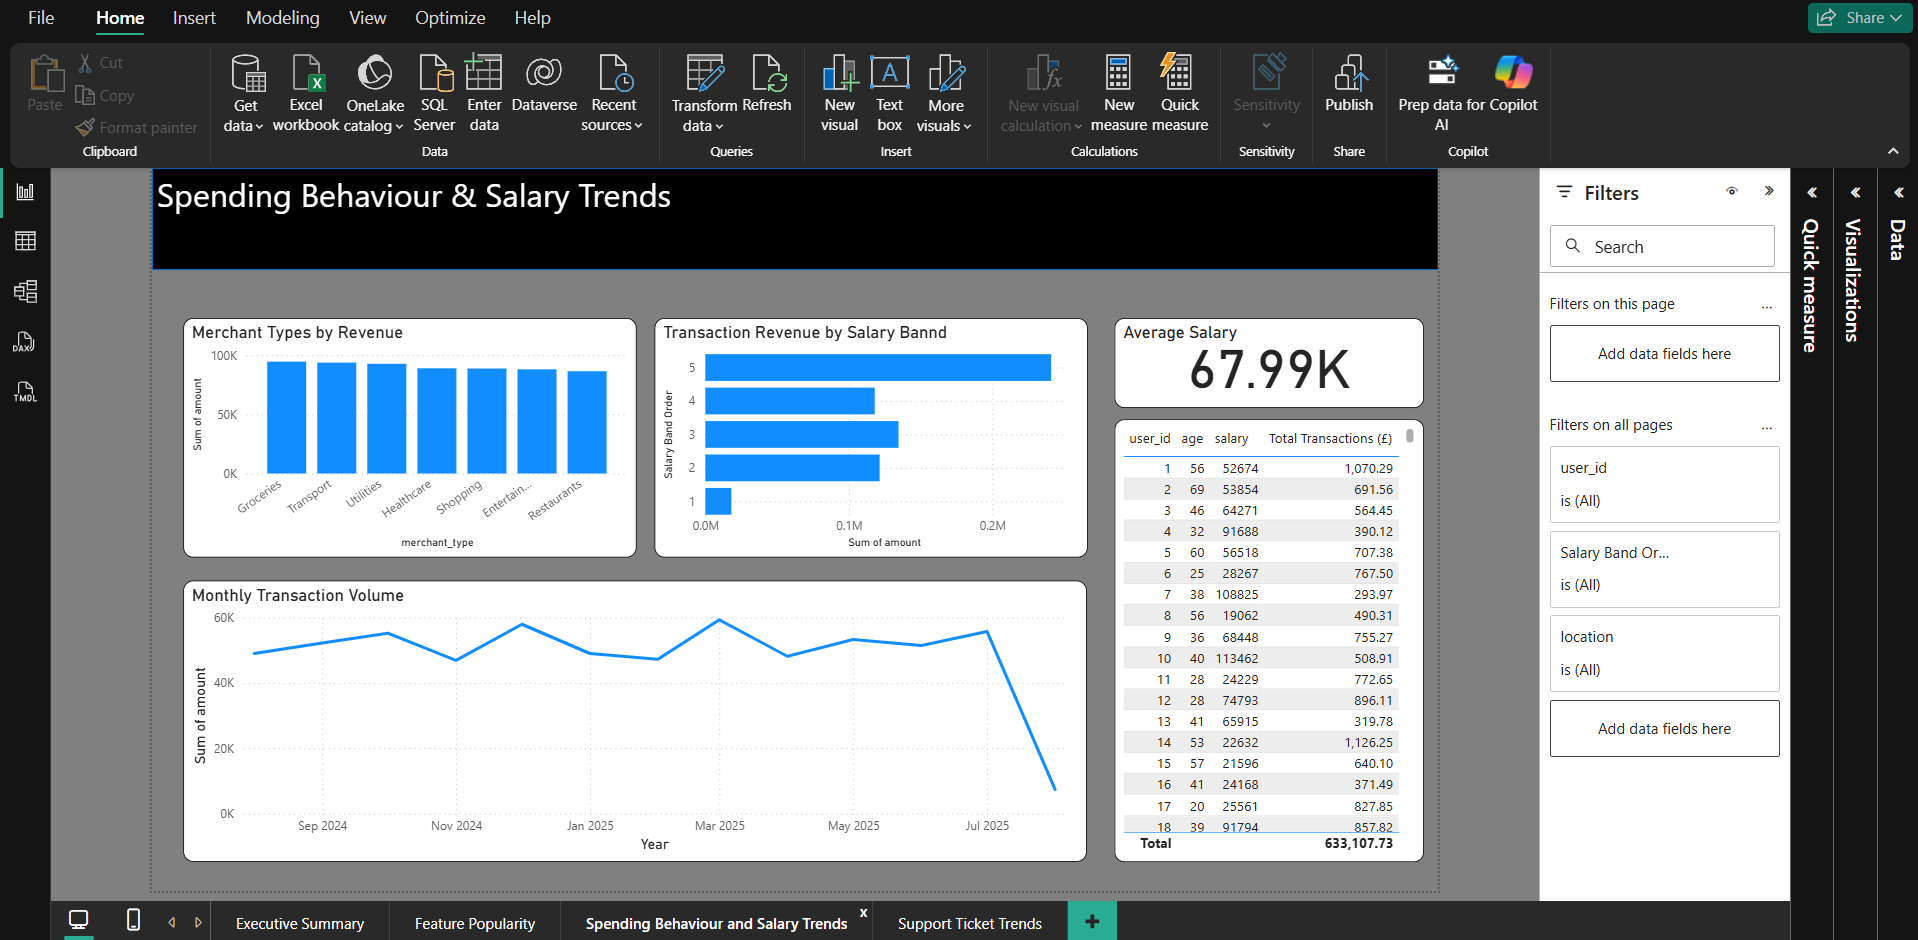

The page's visual inventory and layout, read from the dashboard file:
{"tool":"powerbi","page":{"name":"Spending Behaviour and Salary Trends","canvas":[1280,720],"ordinal":2},"visuals":[{"type":"clusteredColumnChart","title":"Merchant Types by Revenue","fields":{"Y":["Sum(transactions.amount)"],"Category":["transactions.merchant_type"]},"box":[31.6,149.6,451.5,238.8],"z":0},{"type":"lineChart","title":"Monthly Transaction Volume","fields":{"Y":["Sum(transactions.amount)"],"Category":["transactions.transaction_date.Variation.Date Hierarchy.Year","transactions.transaction_date.Variation.Date Hierarchy.Month"]},"box":[31.6,410.3,898.8,279.9],"z":1000},{"type":"clusteredBarChart","title":"Transaction Revenue by Salary Bannd","fields":{"Category":["users.Salary Band Order"],"Y":["Sum(transactions.amount)"]},"box":[499.5,149.6,430.9,238.8],"z":2000},{"type":"tableEx","fields":{"Values":["users.user_id","users.age","users.salary","Sum(transactions.amount)"]},"box":[957.9,249.4,307.9,440.4],"z":3000},{"type":"shape","box":[0,0,1280.3,101.5],"z":4000},{"type":"textbox","box":[0,0,527.4,101.2],"z":5000},{"type":"card","title":"Average Salary","fields":{"Values":["Avg(users.salary)"]},"box":[957.9,149.7,307.9,89.8],"z":6000}]}

Visuals, with their boxes on the page's 1280x720 design canvas (x1, y1, x2, y2). These are canvas units, not pixel positions in the 1918x940 screenshot, which may show the page scaled, cropped or inside an application window:
"Merchant Types by Revenue" clusteredColumnChart: l=32, t=150, r=483, b=388
"Monthly Transaction Volume" lineChart: l=32, t=410, r=930, b=690
"Transaction Revenue by Salary Bannd" clusteredBarChart: l=500, t=150, r=930, b=388
tableEx - users.user_id x users.age: l=958, t=249, r=1266, b=690
shape: l=0, t=0, r=1280, b=102
textbox: l=0, t=0, r=527, b=101
"Average Salary" card: l=958, t=150, r=1266, b=240
